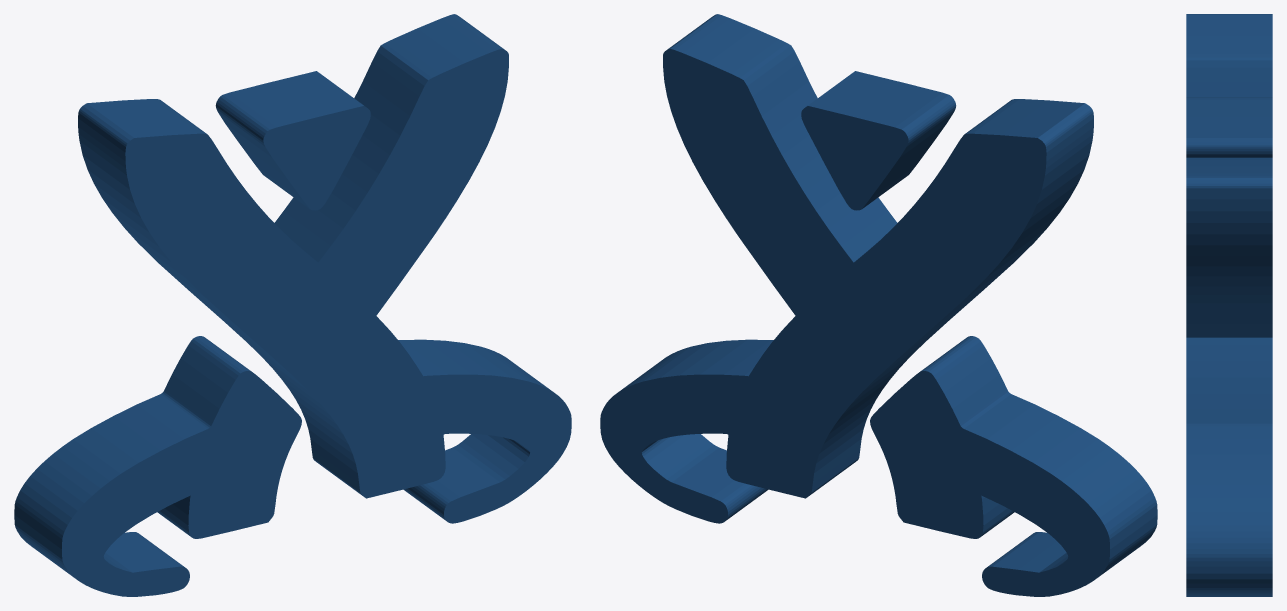
Rendered from tinker.obj.
3 renders of one model, left to right at view 1: azimuth 30°, elevation 25°; view 2: azimuth 150°, elevation 25°; view 3: azimuth 270°, elevation 25°, orthographic. The views are drawn at different scales.
Parts seen in each view (by area): view 1: obj_0; view 2: obj_0; view 3: obj_0.
Part boxes in pixels (x1,y1,x2,y2): obj_0: (14, 14, 571, 596); obj_0: (600, 14, 1157, 596); obj_0: (1186, 14, 1272, 596).
Bounding box in the file's own units: 61.9 × 53.8 × 10.
